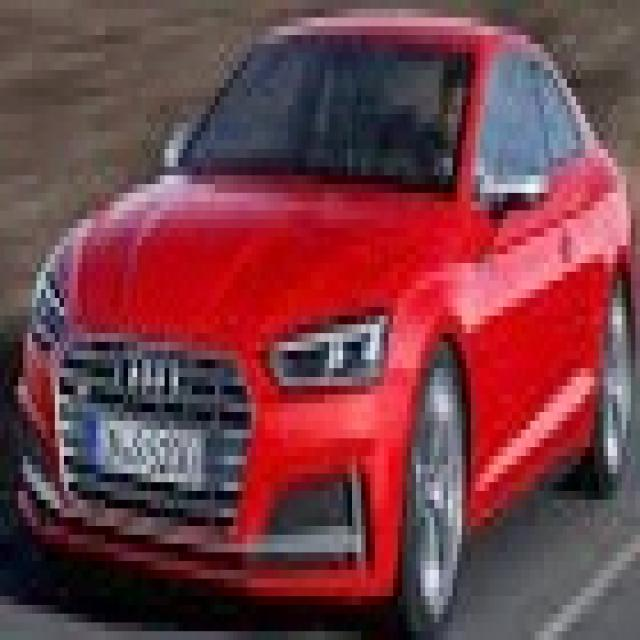red: (18, 1, 640, 607)
